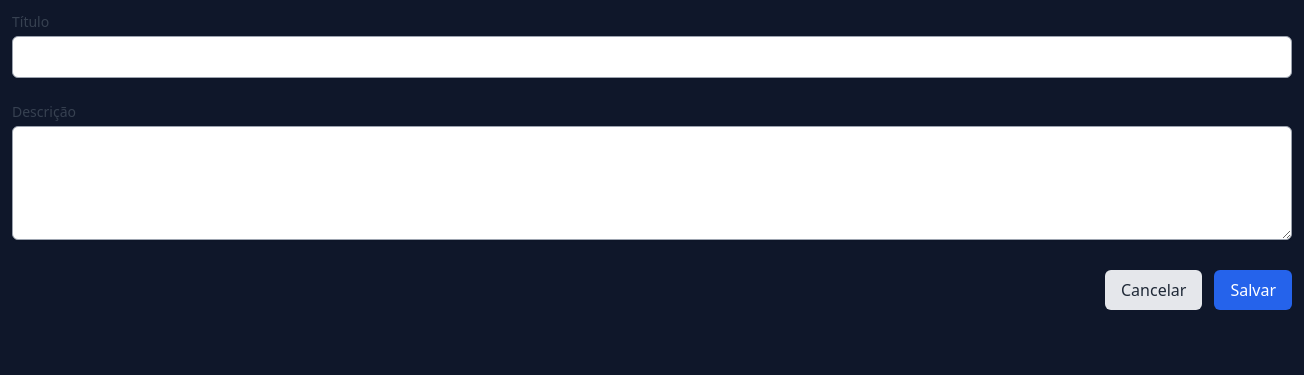
Test: TaskForm › exibe erros de validação se os campos estiverem vazios
The width and height of the screenshot is (1304, 375).
What coordinates should you click on to do the following:
click the button "Salvar"
I would click on:
 (1253, 290)
Its box is [1214,270,1292,310].
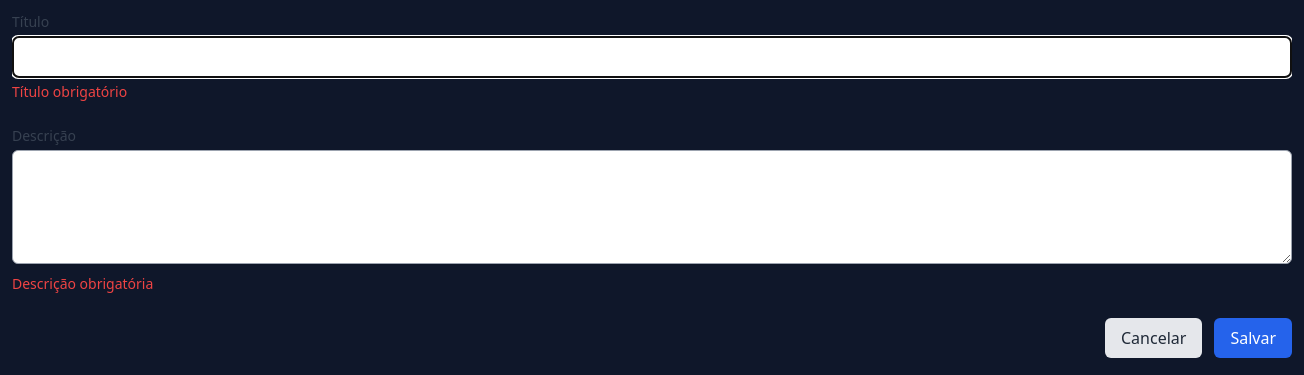
Expected: the text "Título obrigatório" is shown, [12,82,127,101]
Expected: the text "Descrição obrigatória" is shown, [12,274,153,293]
